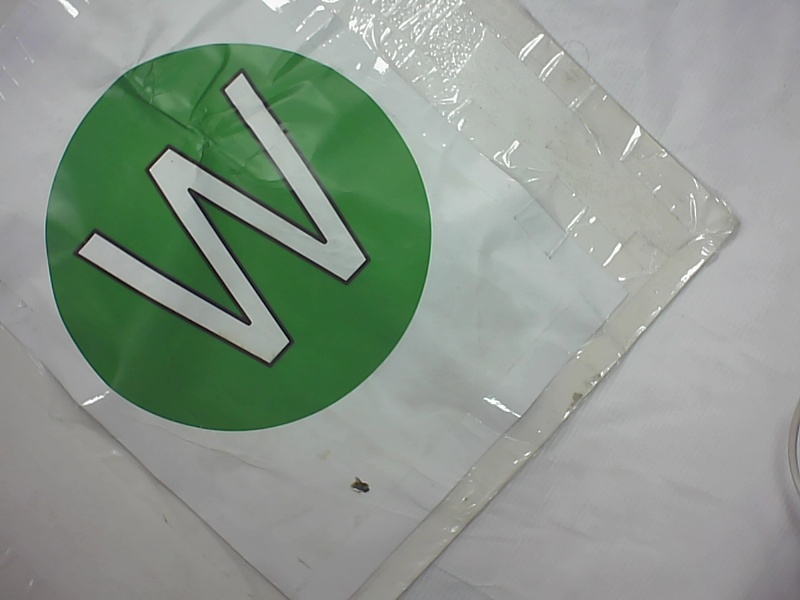areaB: (29, 41, 445, 439)
